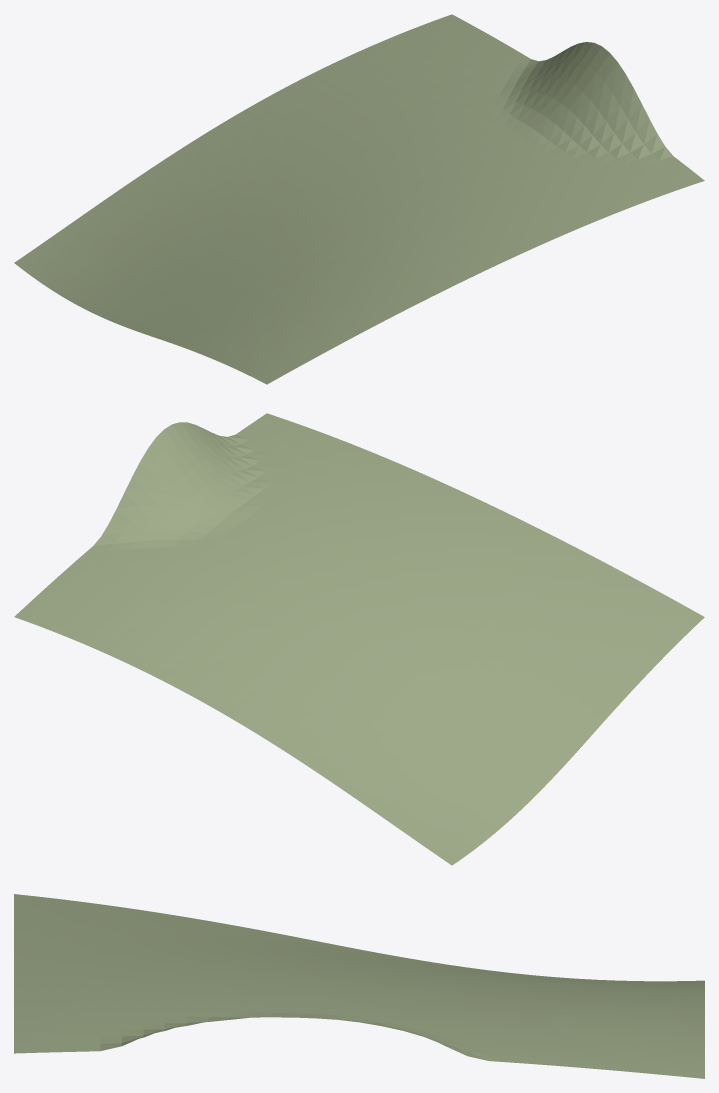
The model's file is expanse-16-17.glb.
The picture shows the model from 3 angles, top to bottom: view 1: azimuth 30°, elevation 25°; view 2: azimuth 150°, elevation 25°; view 3: azimuth 270°, elevation 25°; orthographic projection. The views are drawn at different scales.
Parts seen in each view (by area): view 1: expanse-16-17; view 2: expanse-16-17; view 3: expanse-16-17.
Part boxes in pixels (x1,y1,x2,y2): expanse-16-17: [14, 14, 704, 384]; expanse-16-17: [14, 413, 704, 865]; expanse-16-17: [14, 894, 704, 1078].
Bounding box in the file's own units: 256 × 123 × 256.
